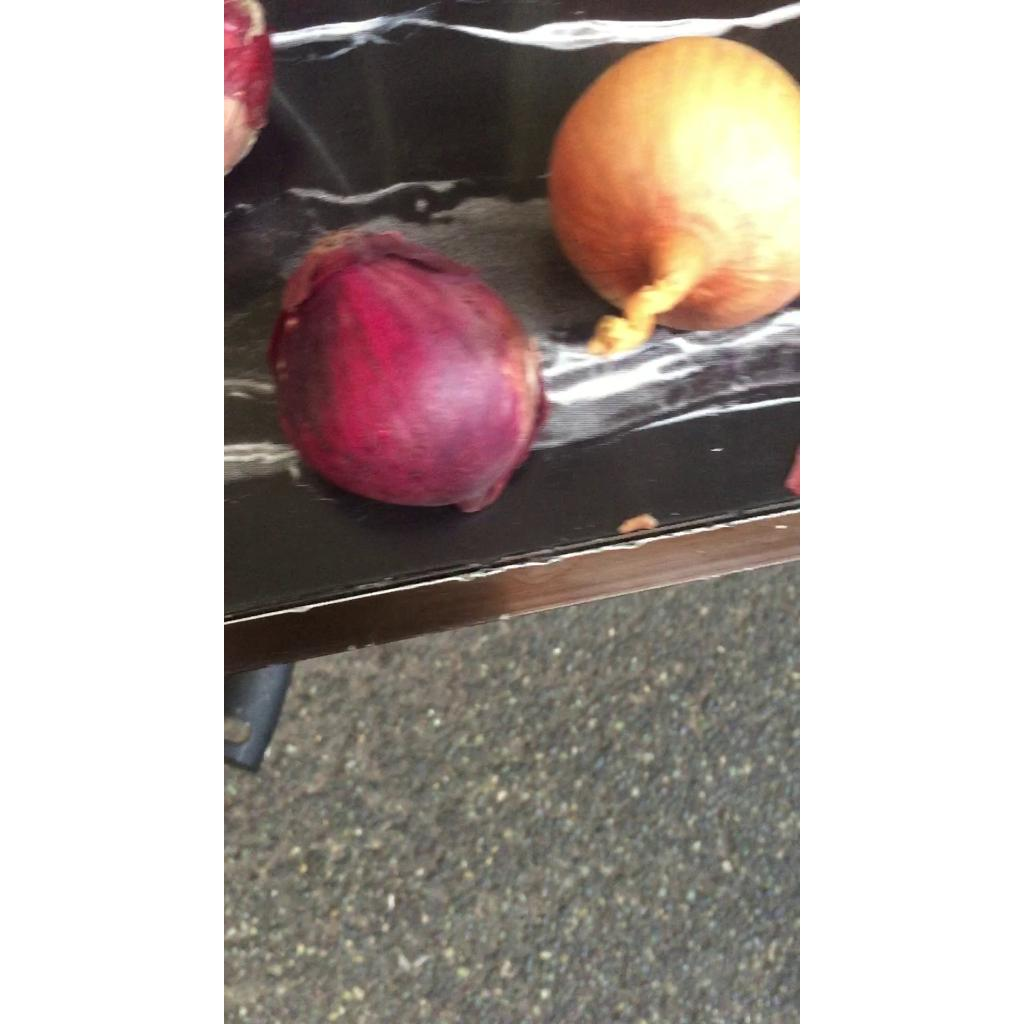Onion: (548, 36, 799, 354), (267, 230, 546, 512)
